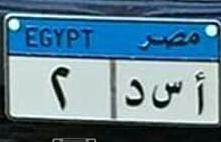2: (46, 64, 76, 113)
alif: (192, 68, 208, 117)
daal: (123, 74, 147, 109)
seen: (151, 78, 183, 114)
